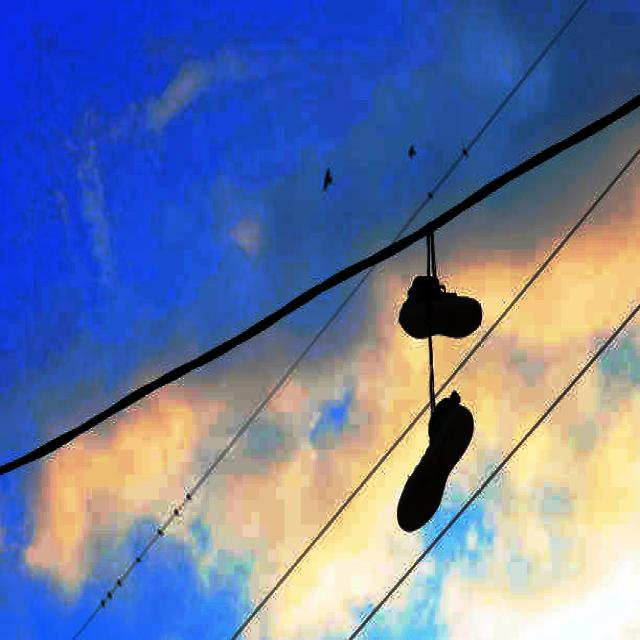obstruction: (397, 278, 479, 531)
wires: (5, 95, 639, 471), (0, 240, 413, 478), (258, 459, 383, 612), (554, 337, 617, 407), (557, 226, 580, 253)
